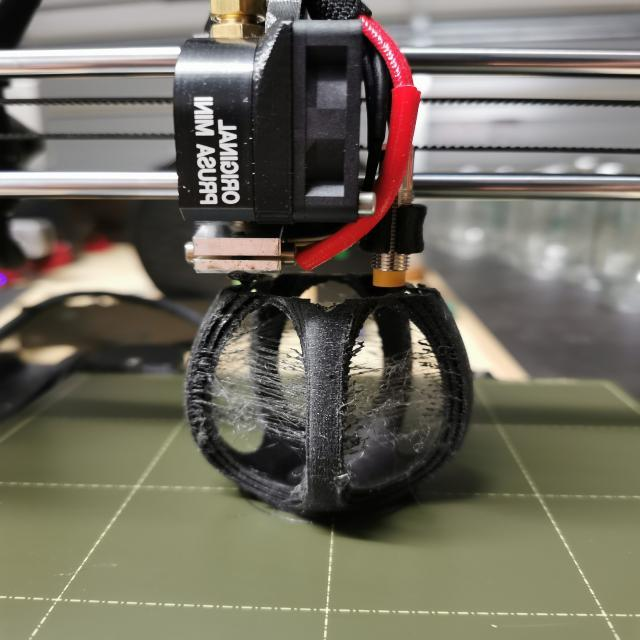Stringing: (198, 339, 316, 449), (341, 355, 456, 458)
